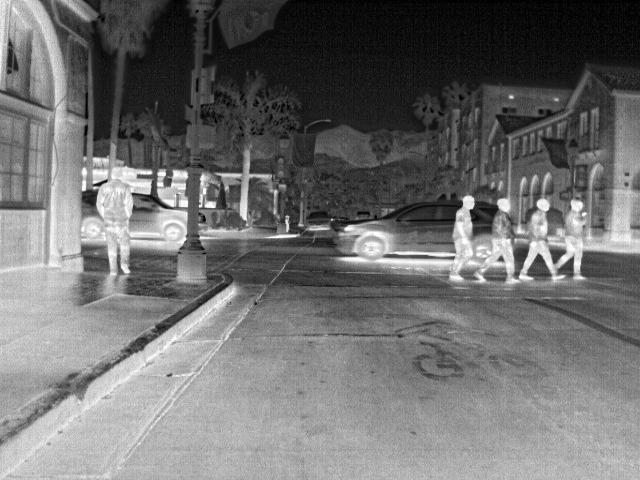car: (333, 198, 463, 262), (127, 191, 188, 240), (470, 200, 497, 264), (83, 190, 107, 237), (305, 209, 335, 232), (197, 210, 210, 239), (354, 209, 374, 225)
person: (472, 195, 522, 286), (96, 163, 134, 278), (516, 197, 566, 279), (554, 197, 591, 279), (447, 195, 479, 281)
